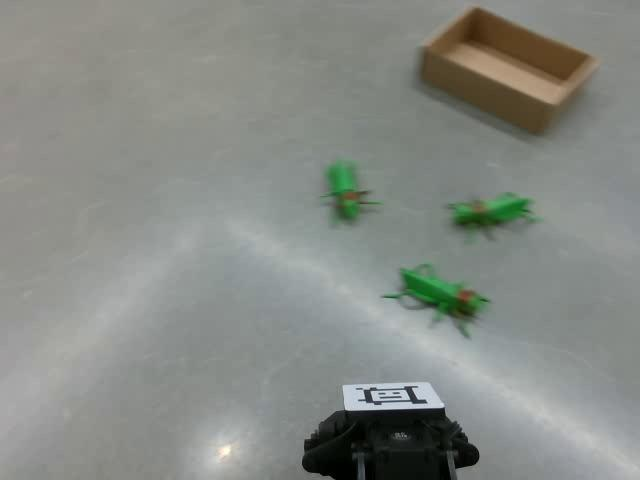box: (419, 5, 600, 135)
grasshopper: (380, 261, 491, 339), (445, 190, 542, 240), (319, 158, 382, 223)
